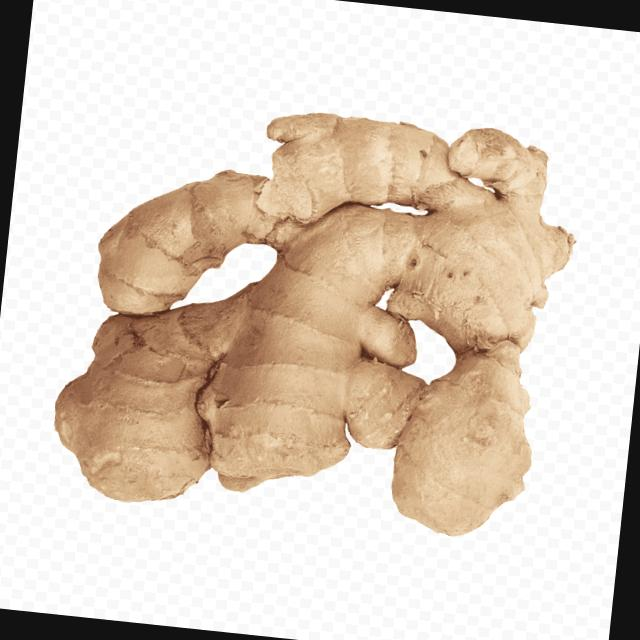ginger-root: (31, 78, 603, 579)
